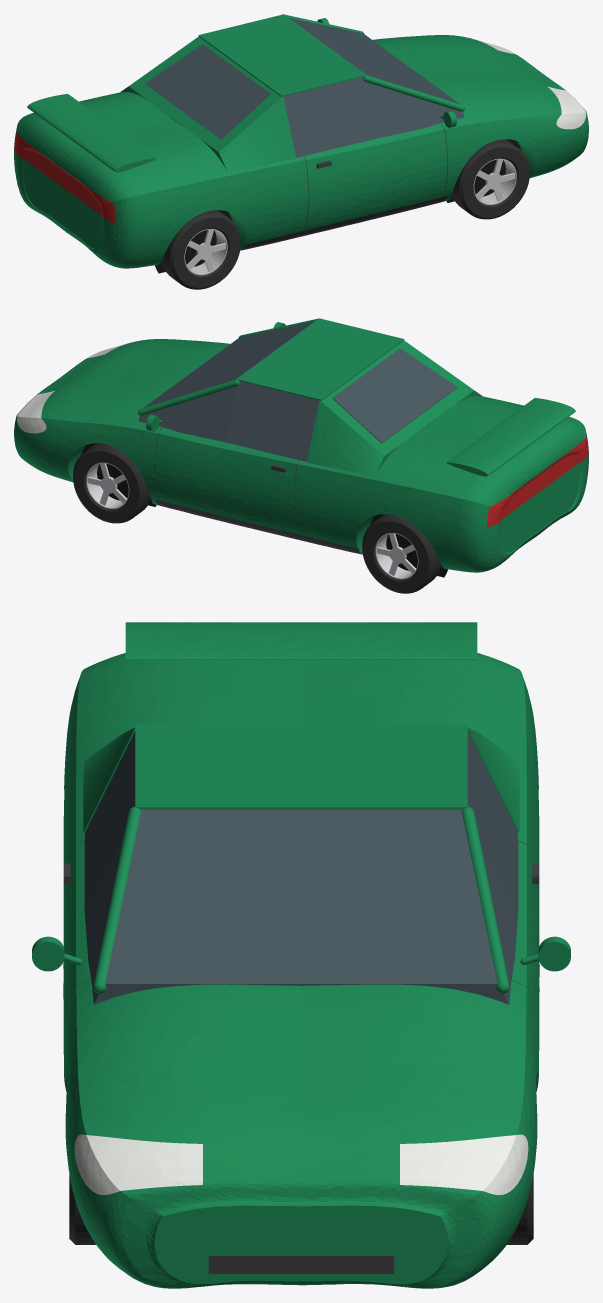
File: honda-crx-del-sol.glb
3 views of the same model, one above another, from view 1: azimuth 30°, elevation 25°; view 2: azimuth 150°, elevation 25°; view 3: azimuth 270°, elevation 25° (orthographic). The views are drawn at different scales.
Visible parts, largest first — view 1: body, glasshouse, targa_top, rear_sail, rear_window, spoiler, rear_right_tyre, front_right_tyre, tail_lights, front_right_rim, rear_right_rim, sills (+4 smaller); view 2: body, glasshouse, targa_top, rear_sail, rear_window, spoiler, rear_left_tyre, front_left_tyre, tail_lights, front_left_rim, rear_left_rim, sills (+4 smaller); view 3: body, glasshouse, targa_top, spoiler, headlamp_right, headlamp_left, a_pillars, rear_sail, front_grille, door_mirrors.
Part boxes in pixels (bbox=[...]): body: bbox=[14, 35, 588, 268]; glasshouse: bbox=[283, 18, 464, 157]; targa_top: bbox=[198, 14, 366, 96]; rear_sail: bbox=[120, 36, 296, 171]; rear_window: bbox=[145, 44, 270, 139]; spoiler: bbox=[27, 94, 156, 172]; rear_right_tyre: bbox=[161, 210, 240, 289]; front_right_tyre: bbox=[452, 139, 529, 219]; tail_lights: bbox=[14, 132, 115, 223]; front_right_rim: bbox=[473, 158, 516, 204]; rear_right_rim: bbox=[184, 229, 227, 275]; sills: bbox=[241, 196, 447, 250]; body: bbox=[14, 339, 588, 572]; glasshouse: bbox=[138, 322, 319, 461]; targa_top: bbox=[236, 318, 404, 400]; rear_sail: bbox=[306, 340, 482, 475]; rear_window: bbox=[332, 348, 457, 443]; spoiler: bbox=[446, 398, 575, 476]; rear_left_tyre: bbox=[362, 514, 441, 593]; front_left_tyre: bbox=[73, 443, 150, 523]; tail_lights: bbox=[487, 436, 588, 527]; front_left_rim: bbox=[86, 462, 129, 508]; rear_left_rim: bbox=[375, 533, 418, 579]; sills: bbox=[155, 500, 361, 554]; body: bbox=[63, 653, 539, 1288]; glasshouse: bbox=[84, 731, 518, 1004]; targa_top: bbox=[135, 724, 467, 809]; spoiler: bbox=[125, 622, 477, 659]; headlamp_right: bbox=[74, 1134, 202, 1195]; headlamp_left: bbox=[400, 1134, 528, 1195]; a_pillars: bbox=[93, 806, 509, 993]; rear_sail: bbox=[83, 727, 519, 832]; front_grille: bbox=[208, 1256, 394, 1273]; door_mirrors: bbox=[32, 936, 570, 971].
Size of what is drawn, in the model's own units: 4 by 1.25 by 1.92.
